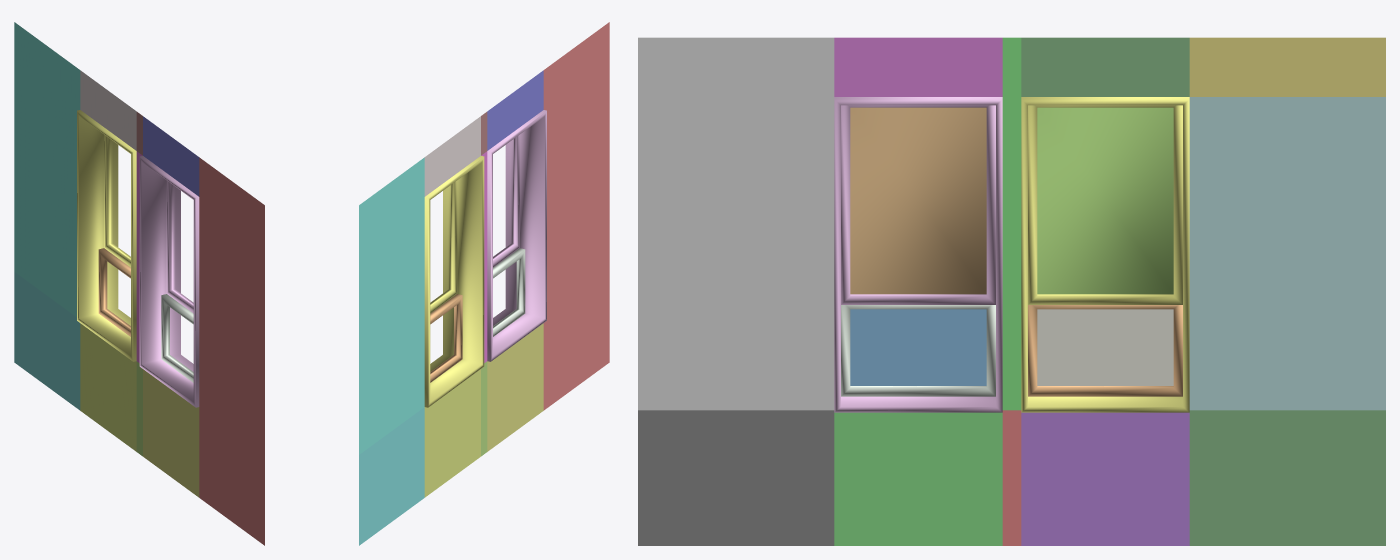
The model's file is SM_window_05.gltf.
3 renders of one model, left to right at view 1: azimuth 30°, elevation 25°; view 2: azimuth 150°, elevation 25°; view 3: azimuth 270°, elevation 25°, orthographic. The views are drawn at different scales.
Visible parts, largest first — view 1: SM_window_05; view 2: SM_window_05; view 3: SM_window_05.
Boxes of the visible parts, left/top/right/bottom form: SM_window_05: left=14, top=22, right=264, bottom=545; SM_window_05: left=359, top=22, right=609, bottom=545; SM_window_05: left=638, top=37, right=1385, bottom=545.
Size of the model in its own units: 0.36 by 3 by 4.
